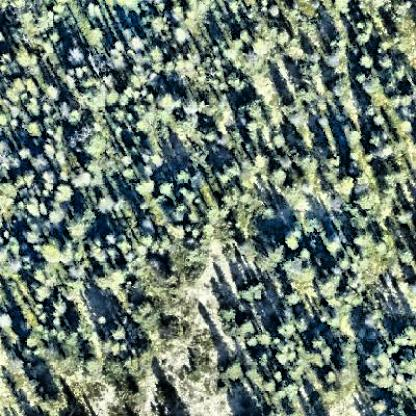tree-top: (363, 343, 394, 382), (91, 263, 127, 295), (295, 149, 323, 183), (238, 93, 268, 123), (356, 185, 386, 213), (256, 240, 284, 269), (132, 298, 161, 326), (42, 386, 70, 414), (238, 278, 267, 305), (65, 215, 93, 242), (103, 354, 130, 382), (322, 38, 346, 66), (329, 72, 352, 100), (221, 358, 247, 382), (25, 197, 51, 221), (282, 226, 306, 251), (88, 237, 110, 264), (341, 123, 364, 148), (150, 14, 175, 37), (21, 222, 46, 245), (67, 42, 91, 65), (135, 174, 159, 197), (226, 71, 250, 94), (296, 81, 320, 104), (158, 90, 181, 114), (80, 351, 102, 375), (49, 296, 71, 320), (16, 167, 40, 189), (325, 233, 347, 257), (351, 226, 373, 250), (25, 119, 48, 141), (235, 316, 258, 338), (97, 191, 119, 214), (396, 321, 416, 346), (171, 24, 193, 46), (107, 321, 130, 342), (84, 25, 105, 48), (56, 181, 77, 203), (26, 95, 47, 117), (220, 302, 241, 324), (43, 80, 64, 102), (41, 169, 61, 192), (370, 396, 393, 415), (29, 153, 52, 172), (358, 49, 378, 70), (48, 206, 68, 227), (116, 1, 149, 13), (170, 1, 188, 21), (162, 267, 180, 286), (15, 145, 34, 163), (157, 179, 175, 197), (103, 229, 121, 247), (379, 54, 397, 72), (355, 68, 373, 85), (86, 1, 104, 18), (1, 309, 16, 329), (44, 142, 62, 158), (107, 88, 123, 105)
